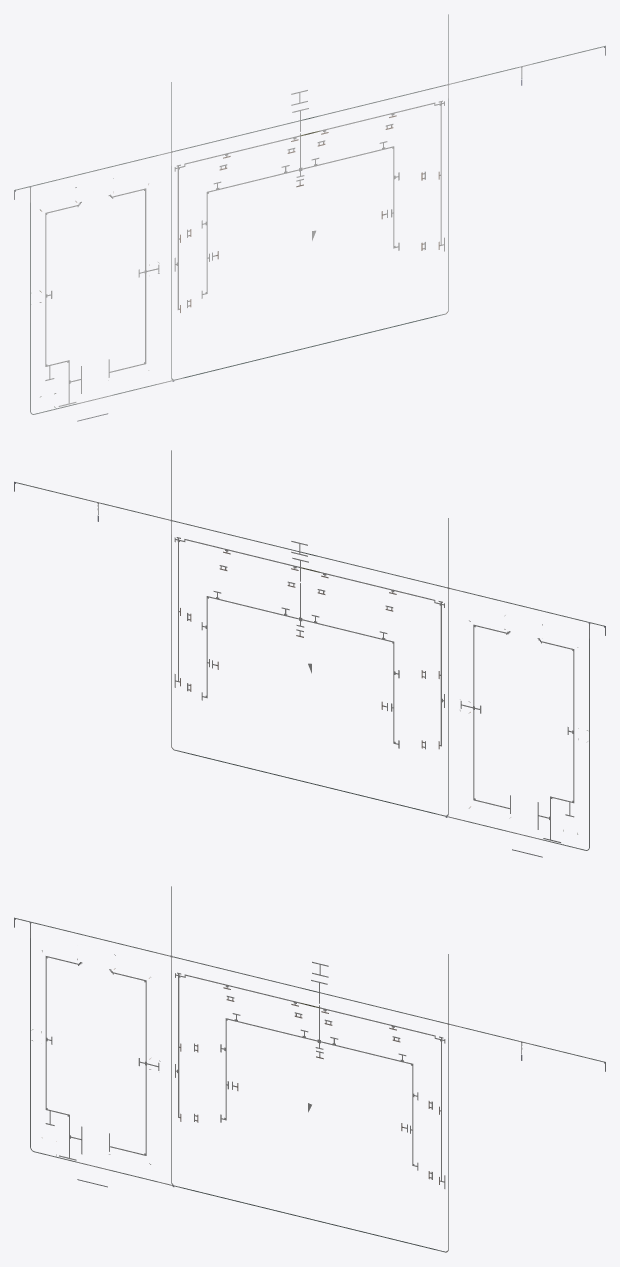
The model's file is SM_000416_merge_gutter01__002.fbx.
3 views of the same model, one above another, from view 1: azimuth 30°, elevation 25°; view 2: azimuth 150°, elevation 25°; view 3: azimuth 330°, elevation 25° (orthographic).
Visible parts, largest first — view 1: SM_000416.001; view 2: SM_000416.001; view 3: SM_000416.001.
Part boxes in pixels (box(x1,y1,x2,y2)): SM_000416.001: box(14, 14, 605, 421); SM_000416.001: box(14, 450, 605, 857); SM_000416.001: box(14, 886, 605, 1252).
Bounding box in the file's own units: 326 × 167 × 11.78.
